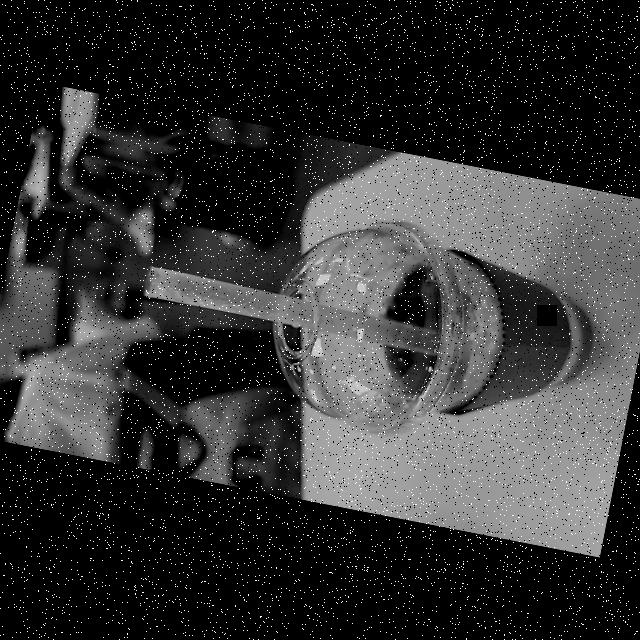plastic_cup: (239, 196, 612, 478)
plastic_cup_lid: (252, 190, 485, 455)
straw: (145, 270, 450, 359)
